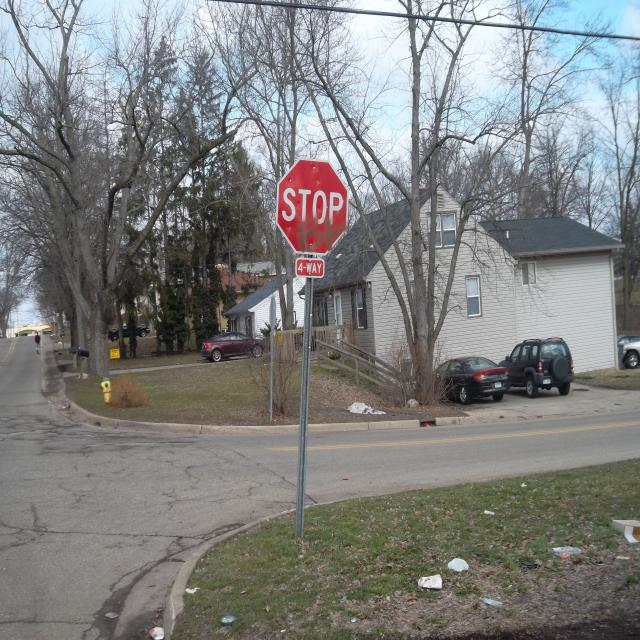stop: (274, 158, 350, 258)
